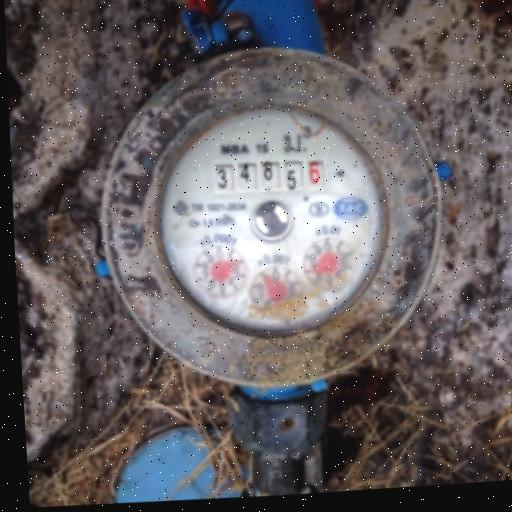3: (215, 165, 234, 190)
4: (239, 164, 258, 189)
5: (285, 162, 304, 187)
6: (308, 161, 325, 186)
8: (261, 161, 278, 186)
border_water_meter_number: (206, 153, 333, 199)
